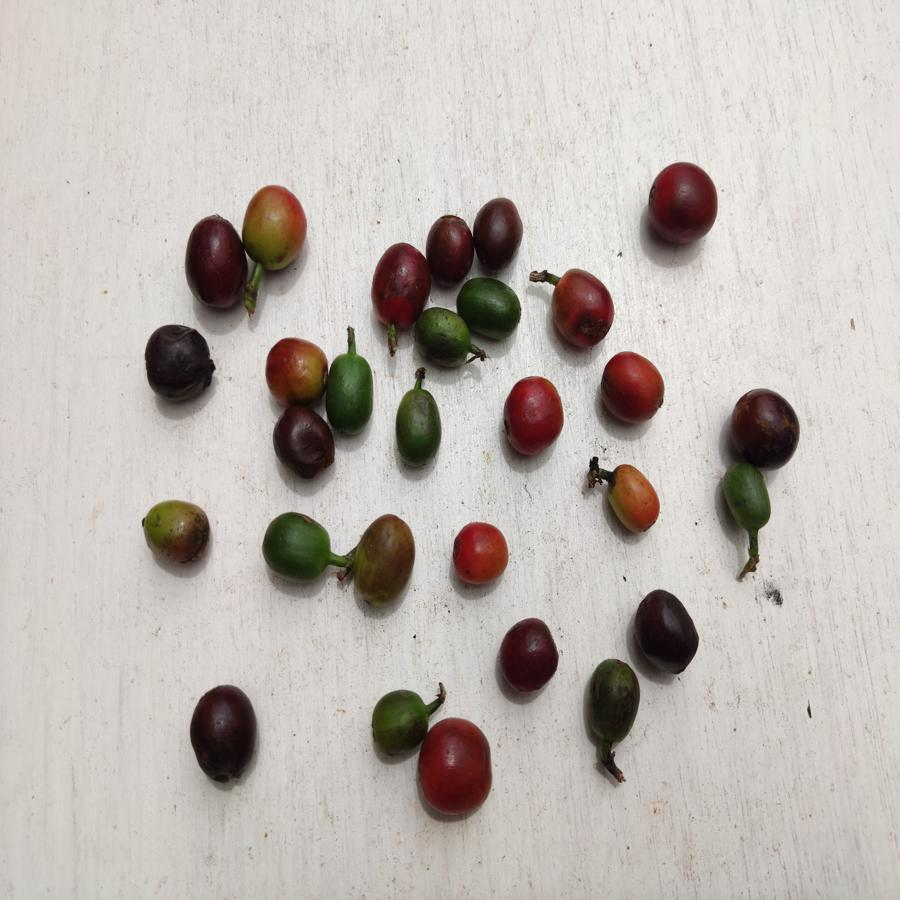Inmaduro: (258, 510, 333, 584), (586, 658, 643, 752), (395, 385, 445, 471), (328, 353, 380, 431), (370, 689, 428, 757), (719, 463, 772, 535), (459, 279, 521, 337), (414, 310, 472, 366)
Maduro: (417, 719, 496, 819), (595, 348, 667, 426), (550, 267, 615, 350), (504, 374, 565, 458)
Pinton: (242, 179, 309, 276), (353, 511, 414, 606), (140, 500, 214, 566), (263, 336, 329, 405), (451, 523, 510, 589), (607, 462, 660, 535)
Sobremaduro: (185, 687, 258, 784), (642, 159, 721, 248), (724, 387, 804, 468), (632, 586, 704, 676), (142, 320, 218, 405), (184, 218, 245, 313), (496, 617, 559, 700), (273, 406, 334, 481), (368, 242, 434, 303), (424, 209, 471, 285), (475, 196, 523, 270)
